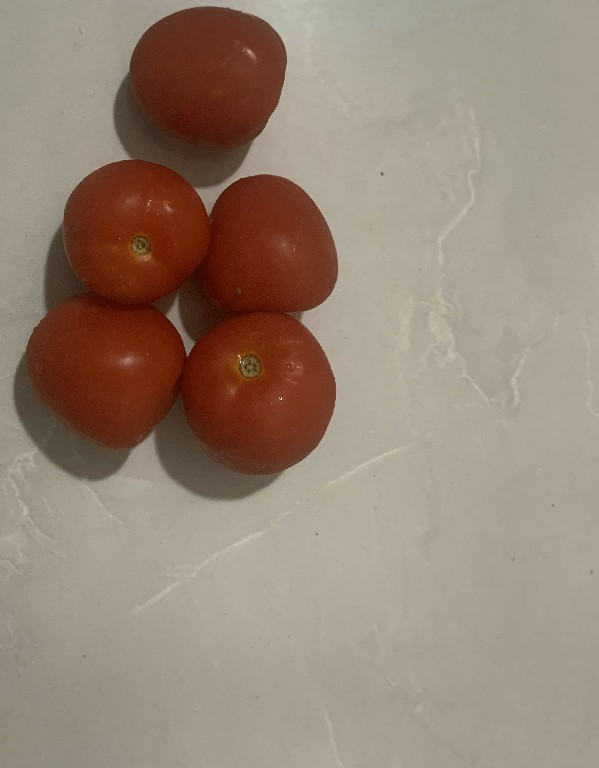OK: (24, 292, 185, 448), (122, 6, 293, 150), (186, 314, 339, 474), (62, 156, 212, 301), (195, 168, 338, 314), (306, 147, 313, 164)
